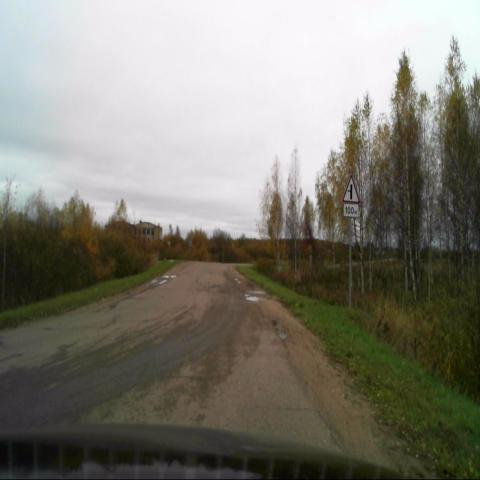2_3_3: (343, 174, 360, 202)
